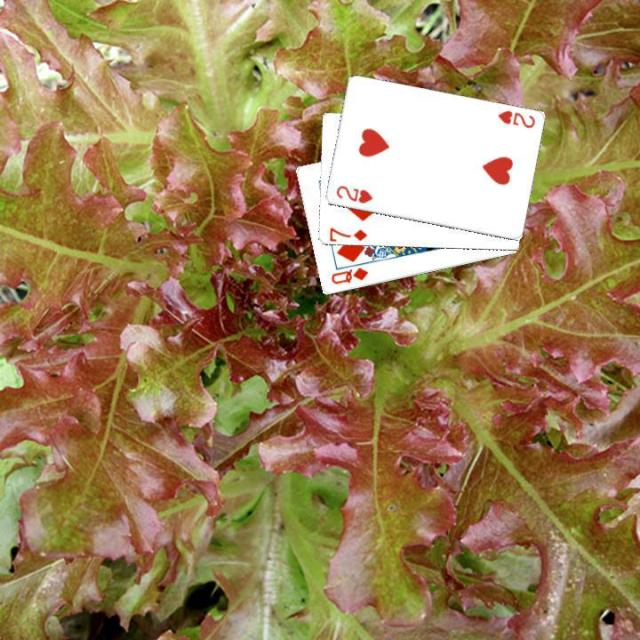2H: (493, 106, 536, 130), (332, 182, 374, 206)
7D: (325, 224, 369, 243)
QD: (327, 264, 370, 286)
